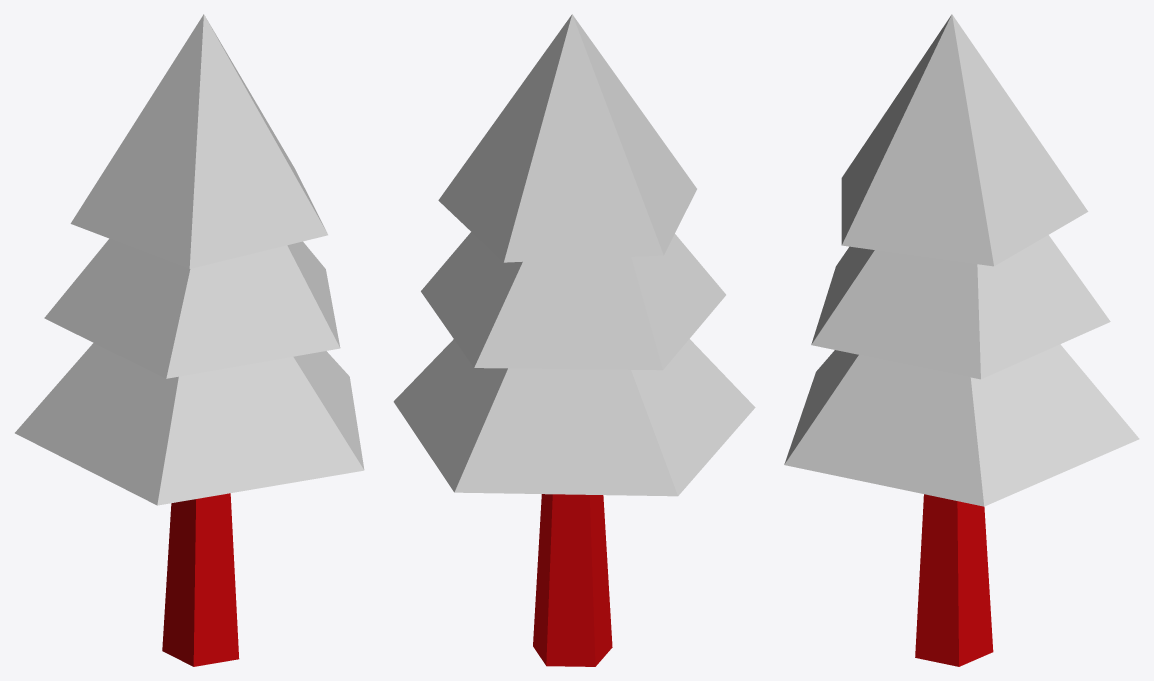
File: PineTree.fbx
The picture shows the model from 3 angles, left to right: view 1: azimuth 30°, elevation 25°; view 2: azimuth 150°, elevation 25°; view 3: azimuth 270°, elevation 25°; orthographic projection.
Parts seen in each view (by area): view 1: Cylinder; view 2: Cylinder; view 3: Cylinder.
Part boxes in pixels (x1,y1,x2,y2): Cylinder: (15, 14, 364, 666); Cylinder: (393, 14, 755, 666); Cylinder: (784, 14, 1139, 666).
Bounding box in the file's own units: 262 × 514 × 261.
